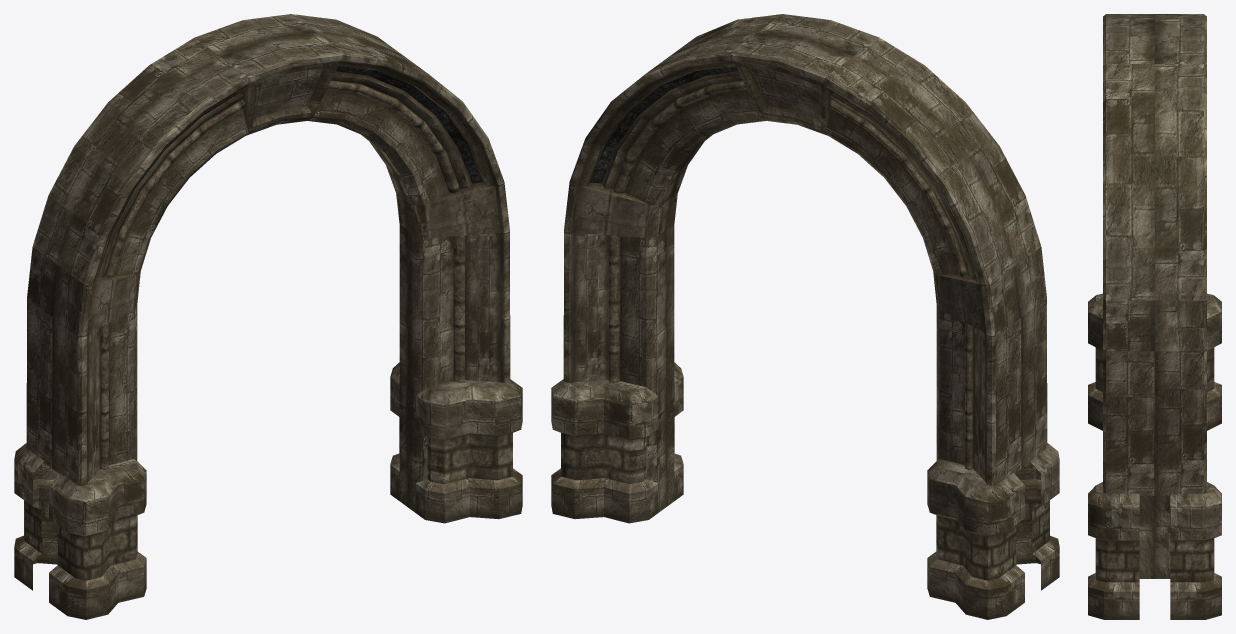
File: door_frame_large_arched_worn_amfp.dae
3 views of the same model, side by side, from view 1: azimuth 30°, elevation 25°; view 2: azimuth 150°, elevation 25°; view 3: azimuth 270°, elevation 25° (orthographic). The views are drawn at different scales.
Visible parts, largest first — view 1: polySurface141, polySurface145, polySurface143, polySurface138, polySurface148; view 2: polySurface145, polySurface141, polySurface143, polySurface138, polySurface148; view 3: polySurface141, polySurface145.
Part boxes in pixels (left/top/right/bottom): polySurface141: left=49, top=32, right=522, bottom=619; polySurface145: left=14, top=14, right=407, bottom=590; polySurface143: left=105, top=80, right=460, bottom=277; polySurface138: left=100, top=235, right=464, bottom=469; polySurface148: left=98, top=66, right=483, bottom=274; polySurface145: left=551, top=32, right=1024, bottom=619; polySurface141: left=666, top=14, right=1059, bottom=590; polySurface143: left=613, top=80, right=968, bottom=277; polySurface138: left=609, top=235, right=973, bottom=469; polySurface148: left=590, top=66, right=975, bottom=274; polySurface141: left=1088, top=14, right=1154, bottom=619; polySurface145: left=1155, top=14, right=1221, bottom=619.
Bounding box in the file's own units: 6.21 × 6.54 × 1.66.
